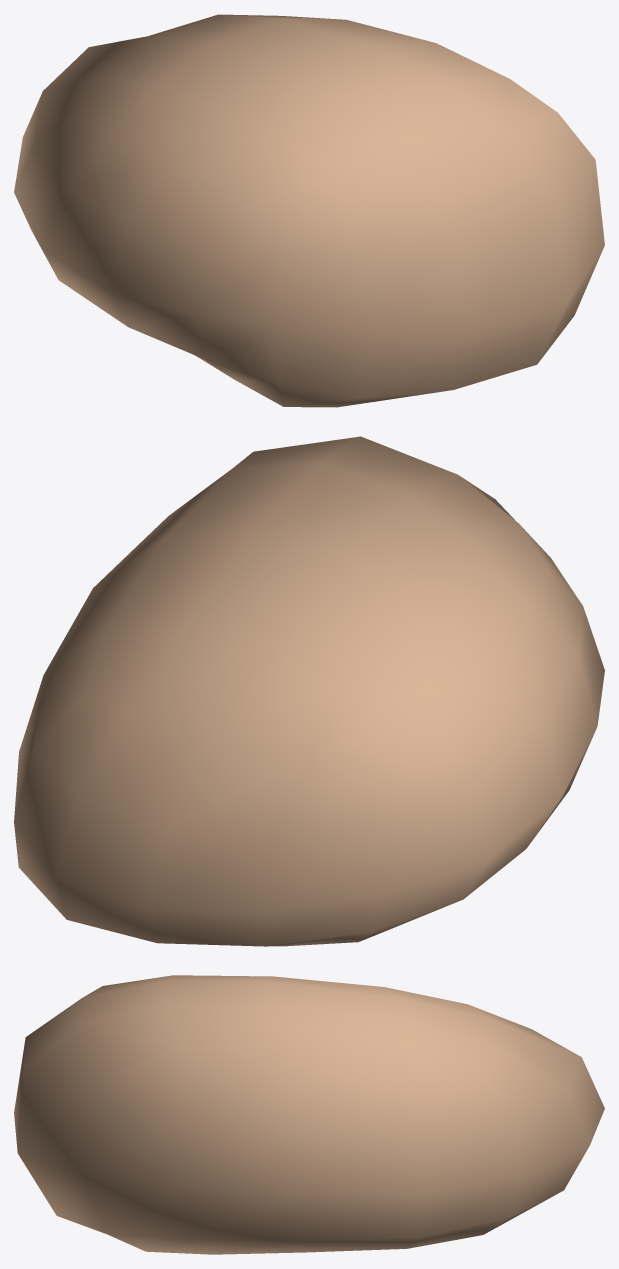
File: Pebble_4c.gltf
The picture shows the model from 3 angles, top to bottom: view 1: azimuth 30°, elevation 25°; view 2: azimuth 150°, elevation 25°; view 3: azimuth 270°, elevation 25°; orthographic projection. The views are drawn at different scales.
Parts seen in each view (by area): view 1: Pebble_4c; view 2: Pebble_4c; view 3: Pebble_4c.
Part boxes in pixels (x1,y1,x2,y2): Pebble_4c: [14, 14, 604, 407]; Pebble_4c: [14, 436, 604, 946]; Pebble_4c: [14, 975, 604, 1254].
Size of the model in its own units: 43.18 by 28.15 by 62.82.
Materials: 1 (1 with a texture image).
